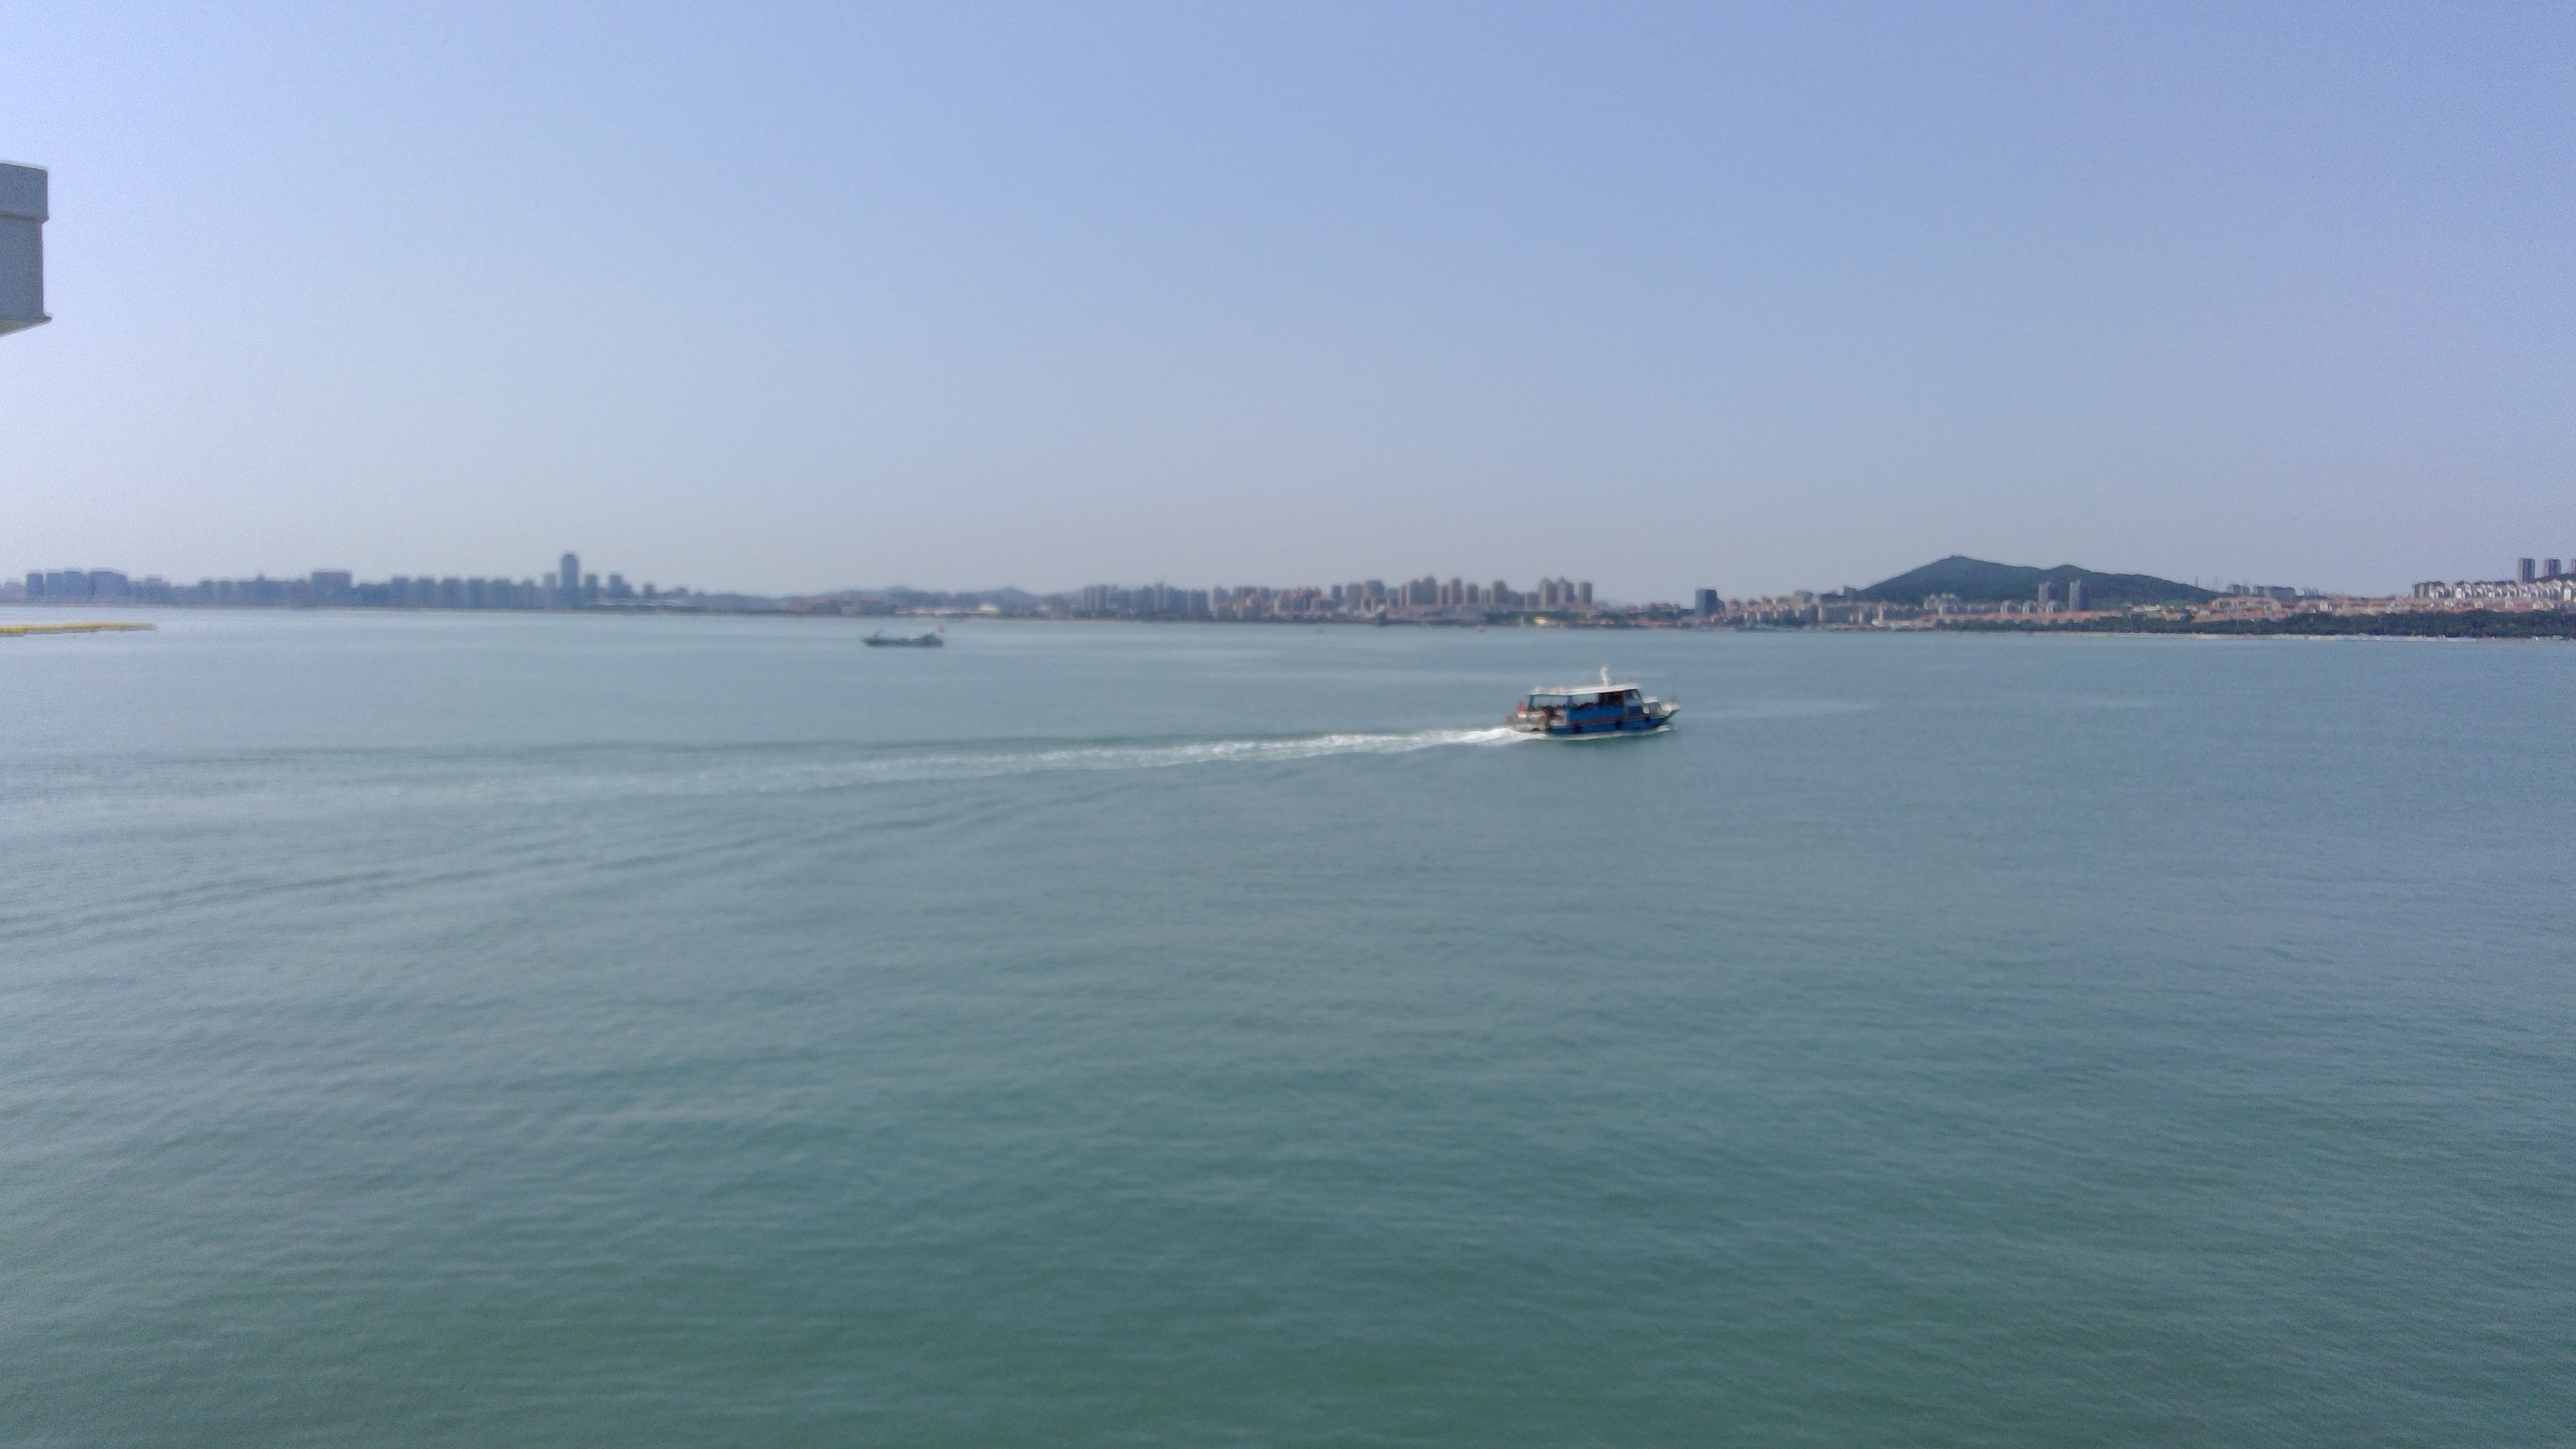ship: (1495, 662, 1681, 773)
